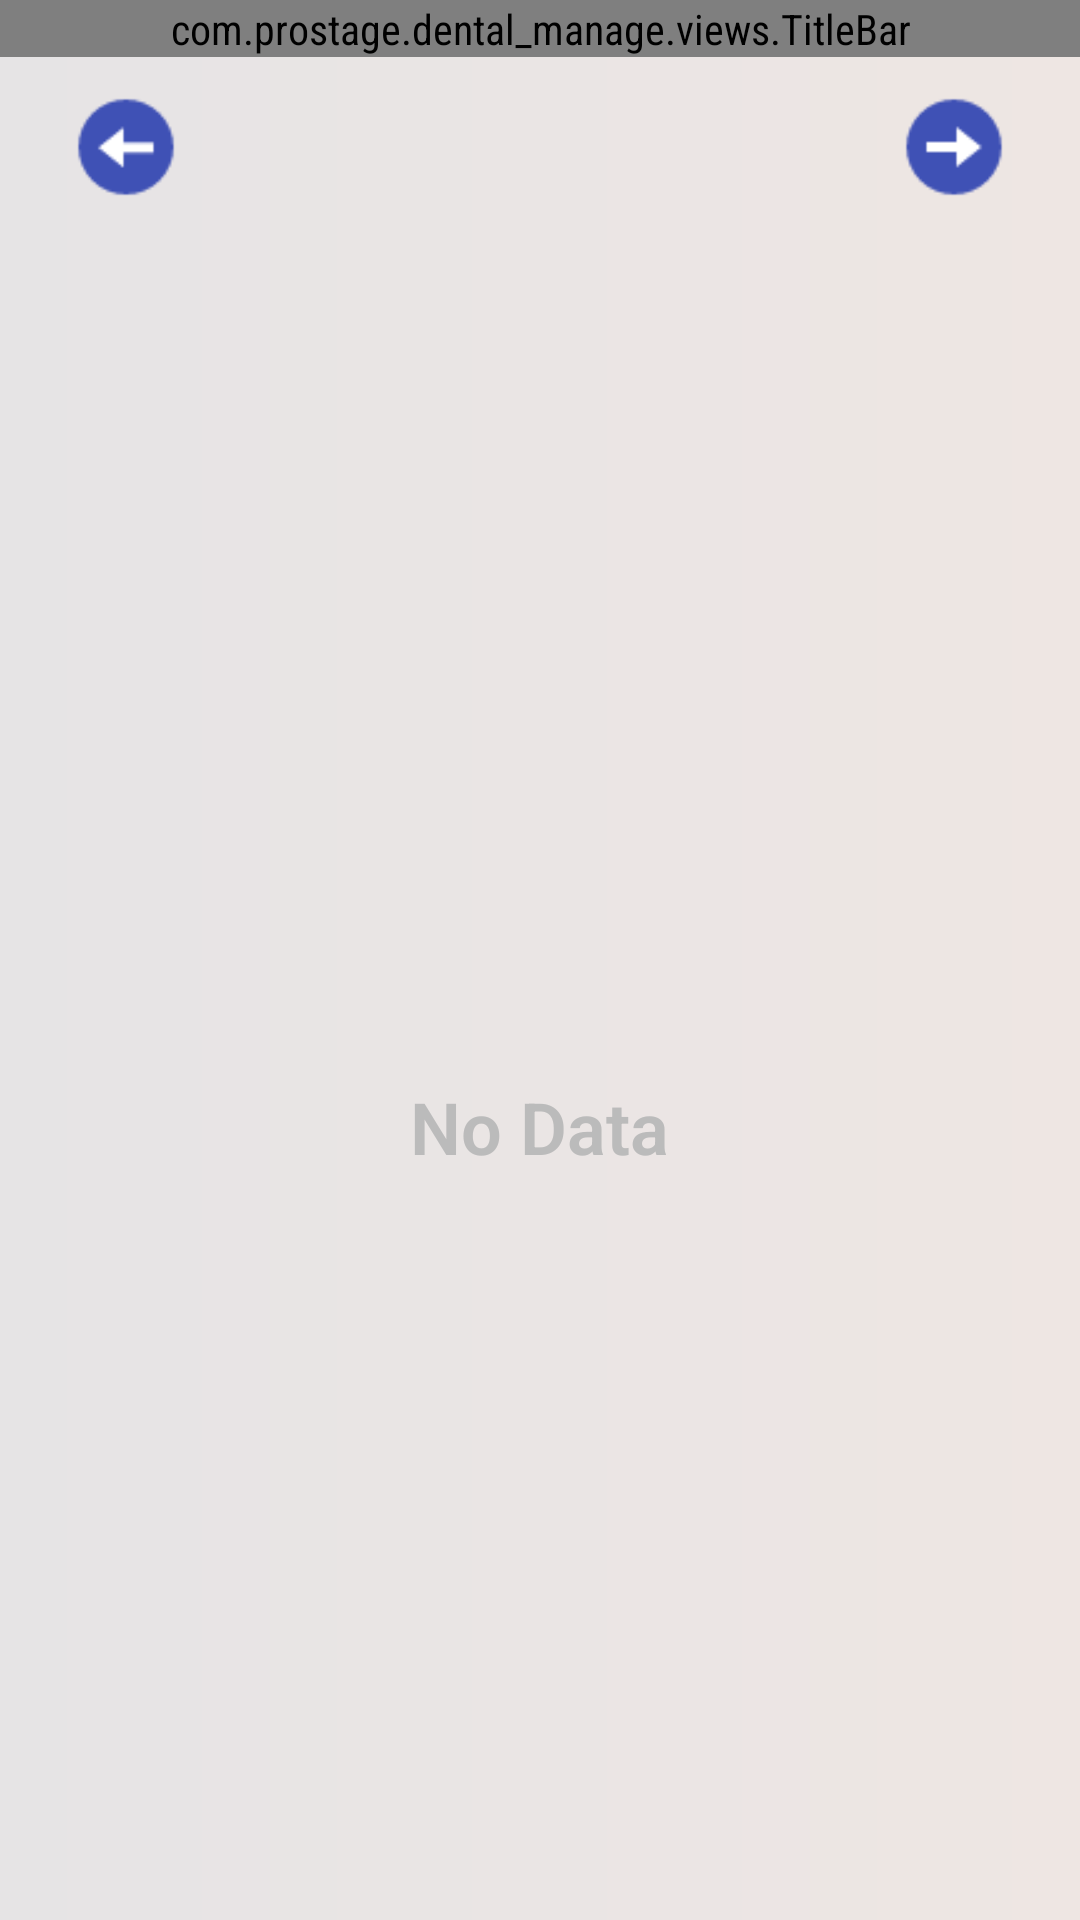

Icons on this 1080×1920 Android screen, each with its box as (x1, y1, x2, y2):
circled left: (78, 99, 174, 195)
circled right: (906, 99, 1002, 195)
